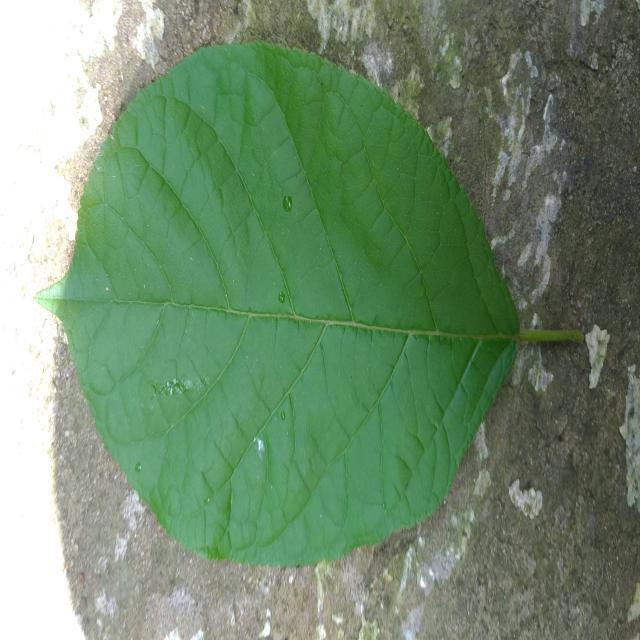padri: (38, 42, 520, 567)
